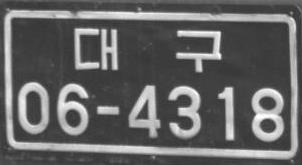0: (17, 80, 49, 135)
1: (212, 86, 245, 141)
3: (167, 84, 202, 139)
4: (127, 84, 161, 137)
6: (56, 81, 89, 136)
8: (250, 87, 285, 142)
대구_D: (73, 27, 222, 72)
